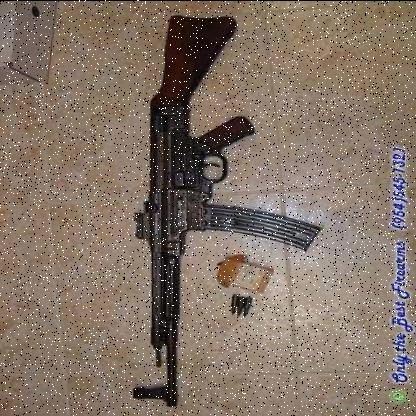rifle: (123, 1, 336, 410)
